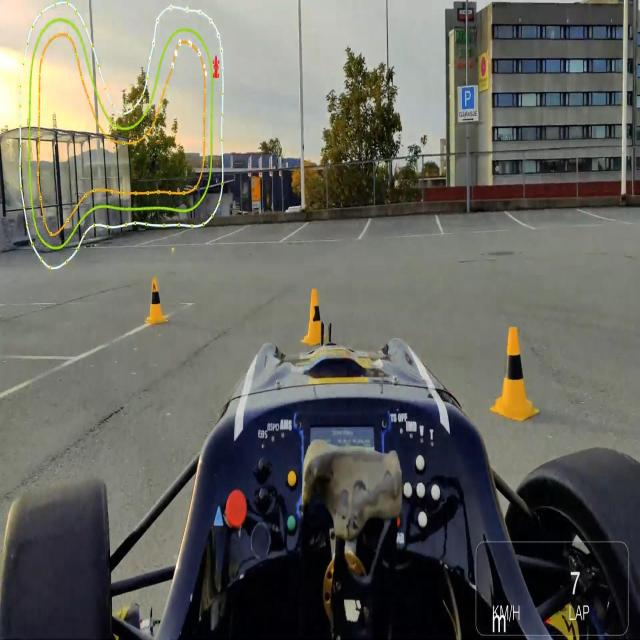yellow_cone: (490, 323, 540, 422), (300, 286, 328, 346), (146, 276, 168, 326)
